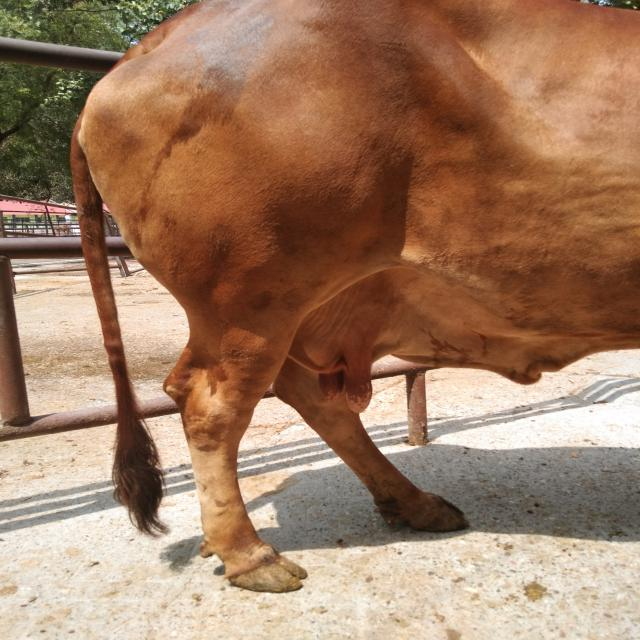Hoof: (226, 553, 308, 593)
